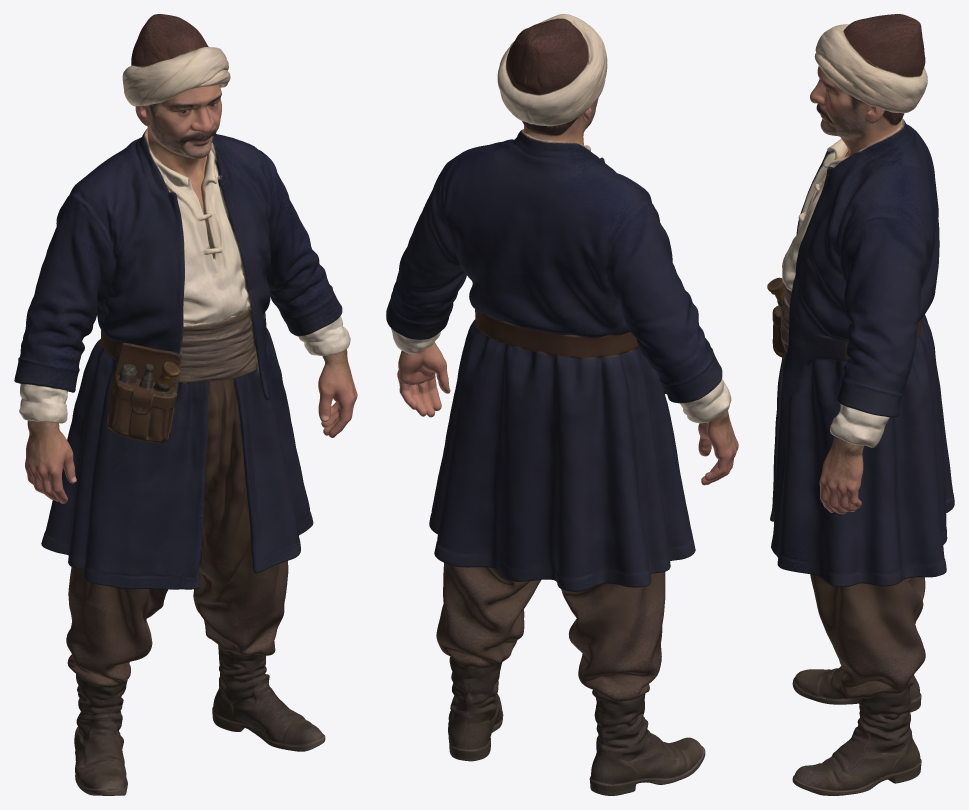
The model's file is cebeci-ocagi-1550-1600-tripo-v1.glb.
3 renders of one model, left to right at view 1: azimuth 30°, elevation 25°; view 2: azimuth 150°, elevation 25°; view 3: azimuth 270°, elevation 25°, orthographic. The views are drawn at different scales.
Visible parts, largest first — view 1: tripo_node_ebccea88-17c5-4e76-9f6e-cde10047af6d; view 2: tripo_node_ebccea88-17c5-4e76-9f6e-cde10047af6d; view 3: tripo_node_ebccea88-17c5-4e76-9f6e-cde10047af6d.
Part boxes in pixels (x1=…): tripo_node_ebccea88-17c5-4e76-9f6e-cde10047af6d: x1=14, y1=14, x2=357, y2=795; tripo_node_ebccea88-17c5-4e76-9f6e-cde10047af6d: x1=386, y1=14, x2=738, y2=795; tripo_node_ebccea88-17c5-4e76-9f6e-cde10047af6d: x1=767, y1=14, x2=954, y2=795.
Bounding box in the file's own units: 0.4743 × 1 × 0.2357.
1 material, 1 textured.
